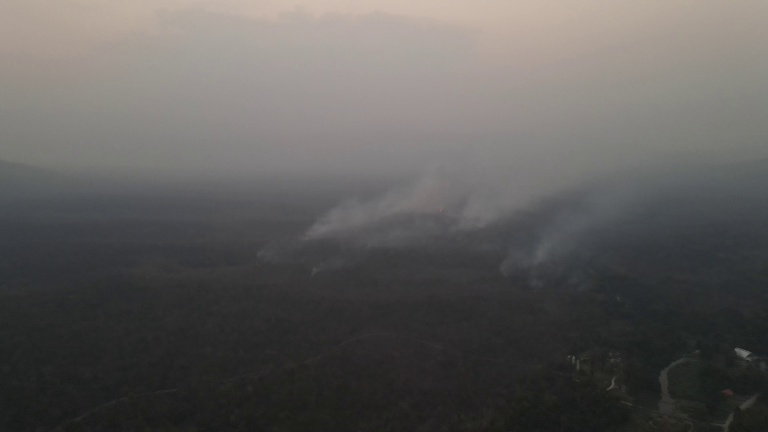fire: (433, 206, 444, 217)
smoke: (293, 124, 614, 286)
